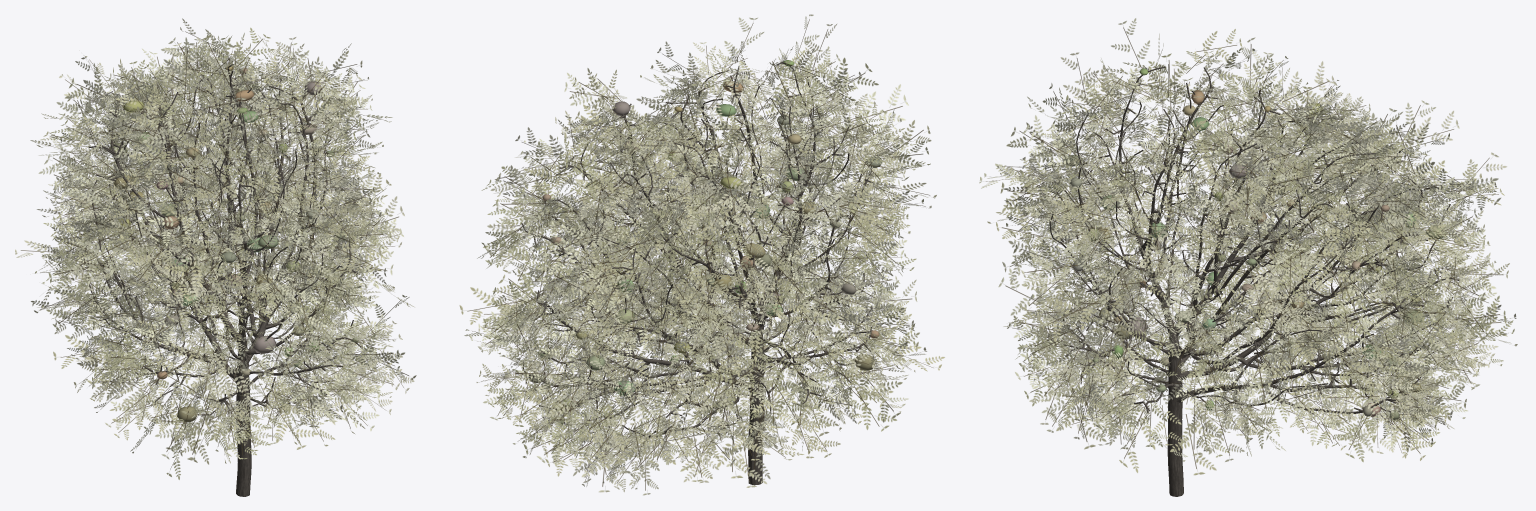
File: tree_33_broadleaf.glb
3 renders of one model, left to right at view 1: azimuth 30°, elevation 25°; view 2: azimuth 150°, elevation 25°; view 3: azimuth 270°, elevation 25°, orthographic. The views are drawn at different scales.
Visible parts, largest first — view 1: tree_33_broadleaf.leaves, tree_33_broadleaf.trunk_branches, tree_33_broadleaf.foliage_volume; view 2: tree_33_broadleaf.leaves, tree_33_broadleaf.trunk_branches, tree_33_broadleaf.foliage_volume; view 3: tree_33_broadleaf.leaves, tree_33_broadleaf.trunk_branches, tree_33_broadleaf.foliage_volume.
Part boxes in pixels (<box>): tree_33_broadleaf.leaves: <box>15,18,416,479</box>; tree_33_broadleaf.trunk_branches: <box>80,64,362,496</box>; tree_33_broadleaf.foliage_volume: <box>110,66,360,422</box>; tree_33_broadleaf.leaves: <box>459,14,944,495</box>; tree_33_broadleaf.trunk_branches: <box>515,62,872,485</box>; tree_33_broadleaf.foliage_volume: <box>528,60,882,424</box>; tree_33_broadleaf.leaves: <box>979,18,1517,475</box>; tree_33_broadleaf.trunk_branches: <box>1049,66,1459,496</box>; tree_33_broadleaf.foliage_volume: <box>1063,68,1446,419</box>.
Size of the model in its own units: 9.83 by 11.4 by 12.07.
Materials: 3 (2 with a texture image).
